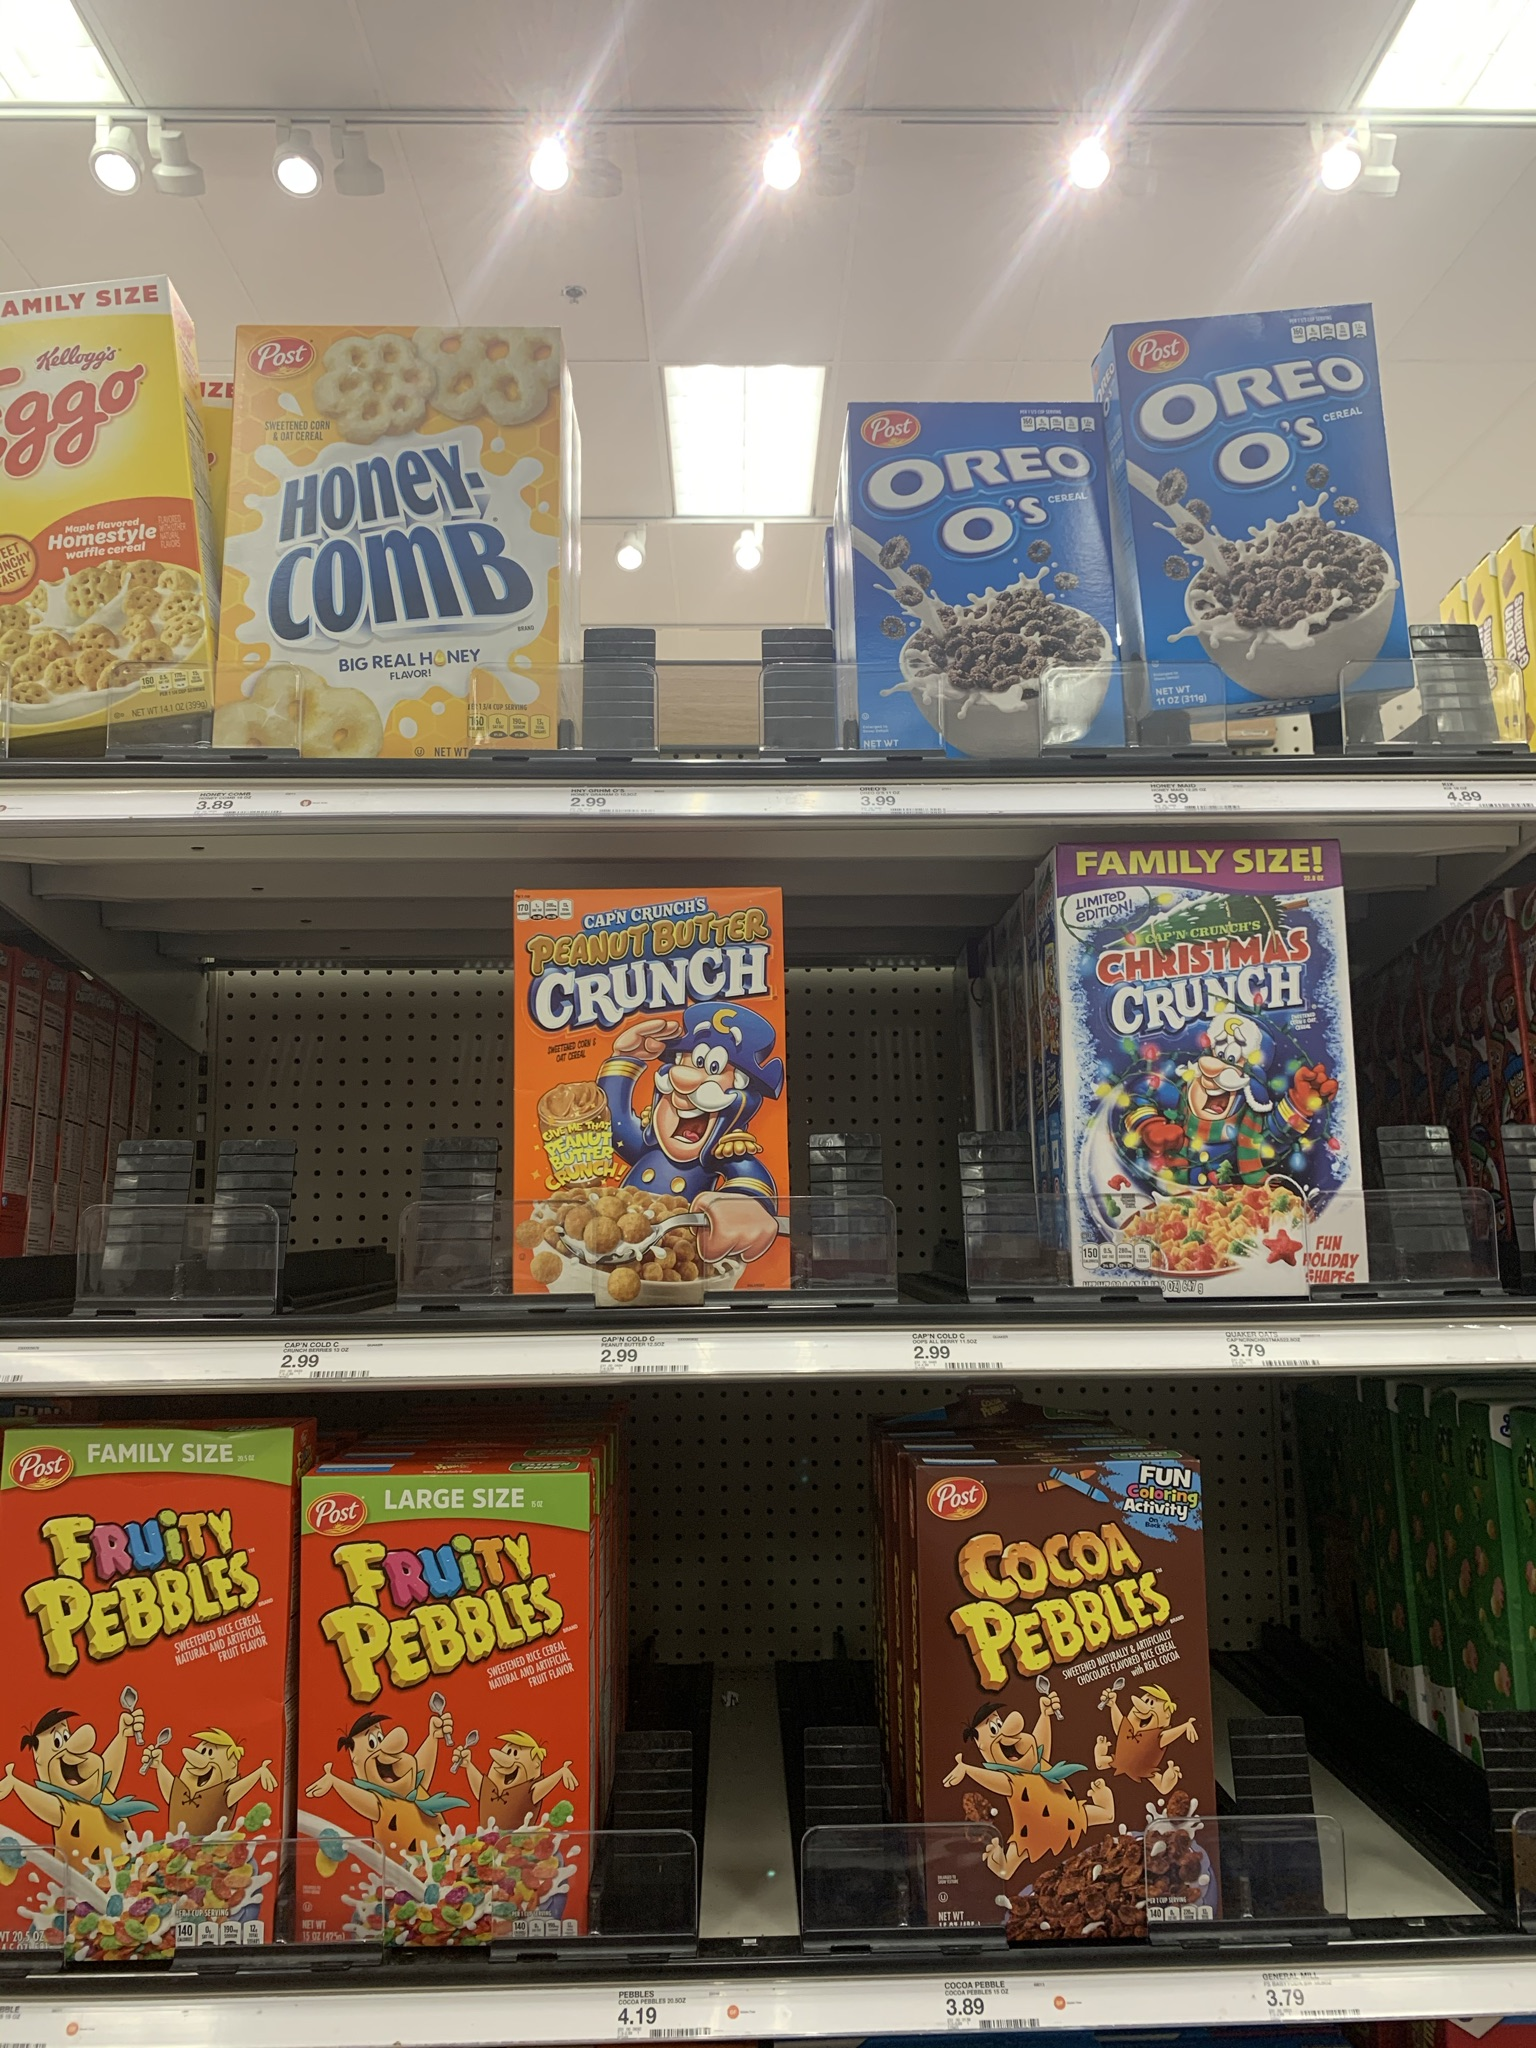Cereal cocoa pebbles: (908, 1474, 1225, 1930)
Cereal crunch: (1062, 848, 1371, 1280), (516, 898, 807, 1300)
Cereal fruity pebbles: (3, 1455, 282, 1951), (303, 1485, 597, 1946)
Cereal honey comb: (247, 335, 561, 739)
Cereal kellogs: (5, 347, 207, 711)
Cereal oreo: (1117, 331, 1412, 719), (866, 416, 1133, 735)
